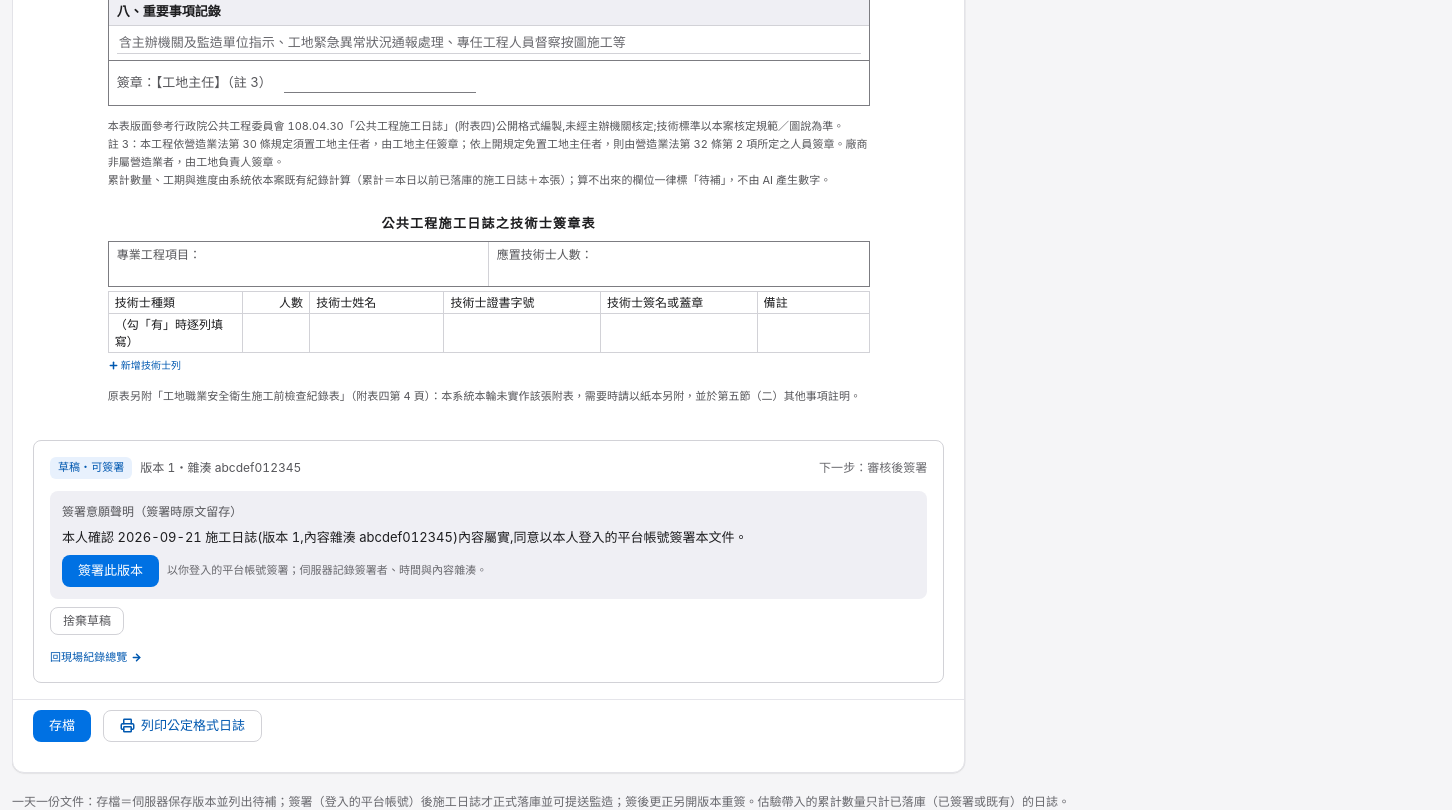
Scenario: 施工日誌文件頁 › 可簽署的草稿:一般登入直接簽署(無驗證碼步驟);成功顯示版本與雜湊、被拒(PD006)顯示伺服器訊息
(page scrolled)
Click the button "簽署此版本".
click(110, 571)  # box [62,555,159,587]
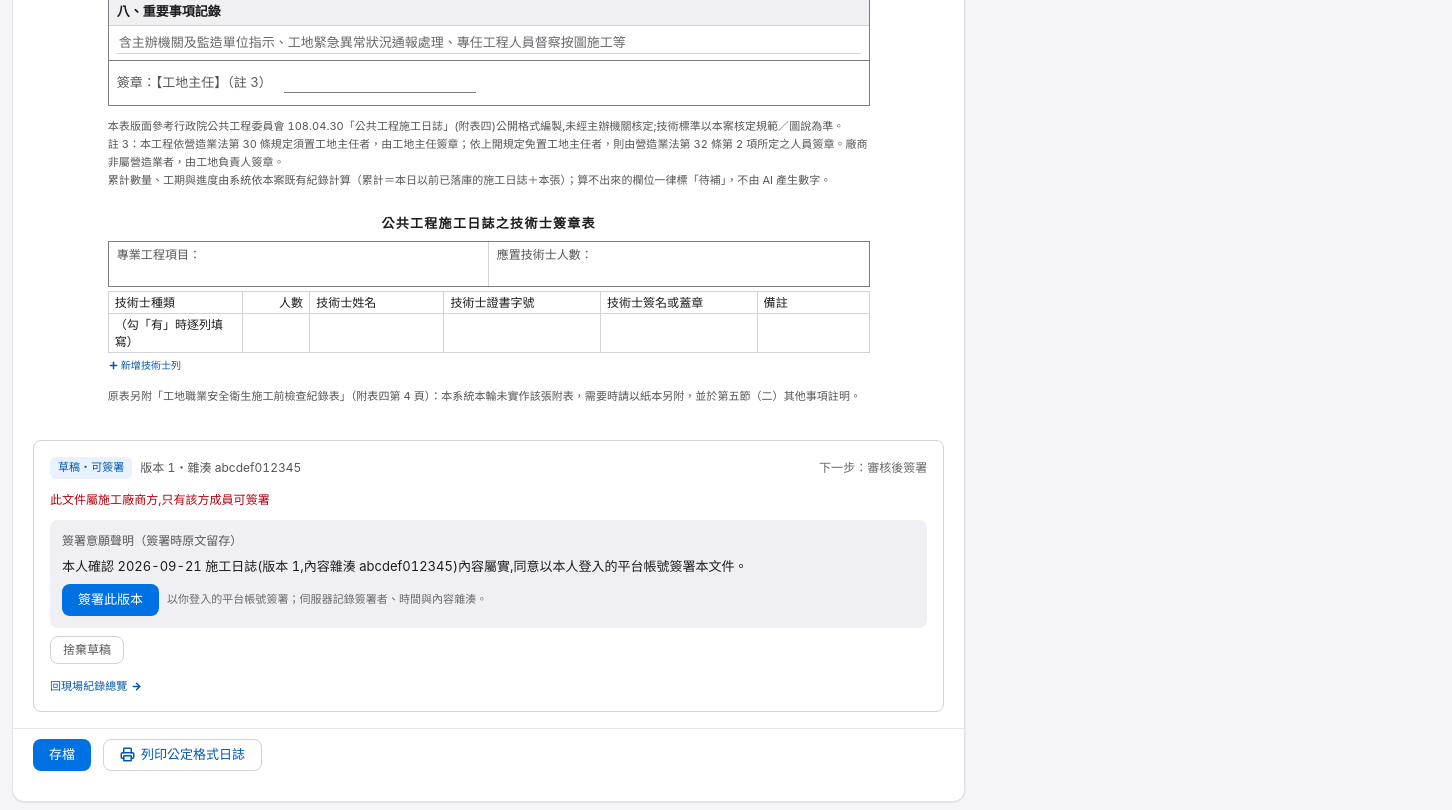
Now the message "此文件屬施工廠商方,只有該方成員可簽署" is shown, box [50,492,270,507]
Click the button "簽署此版本".
click(110, 600)  # box [62,584,159,616]
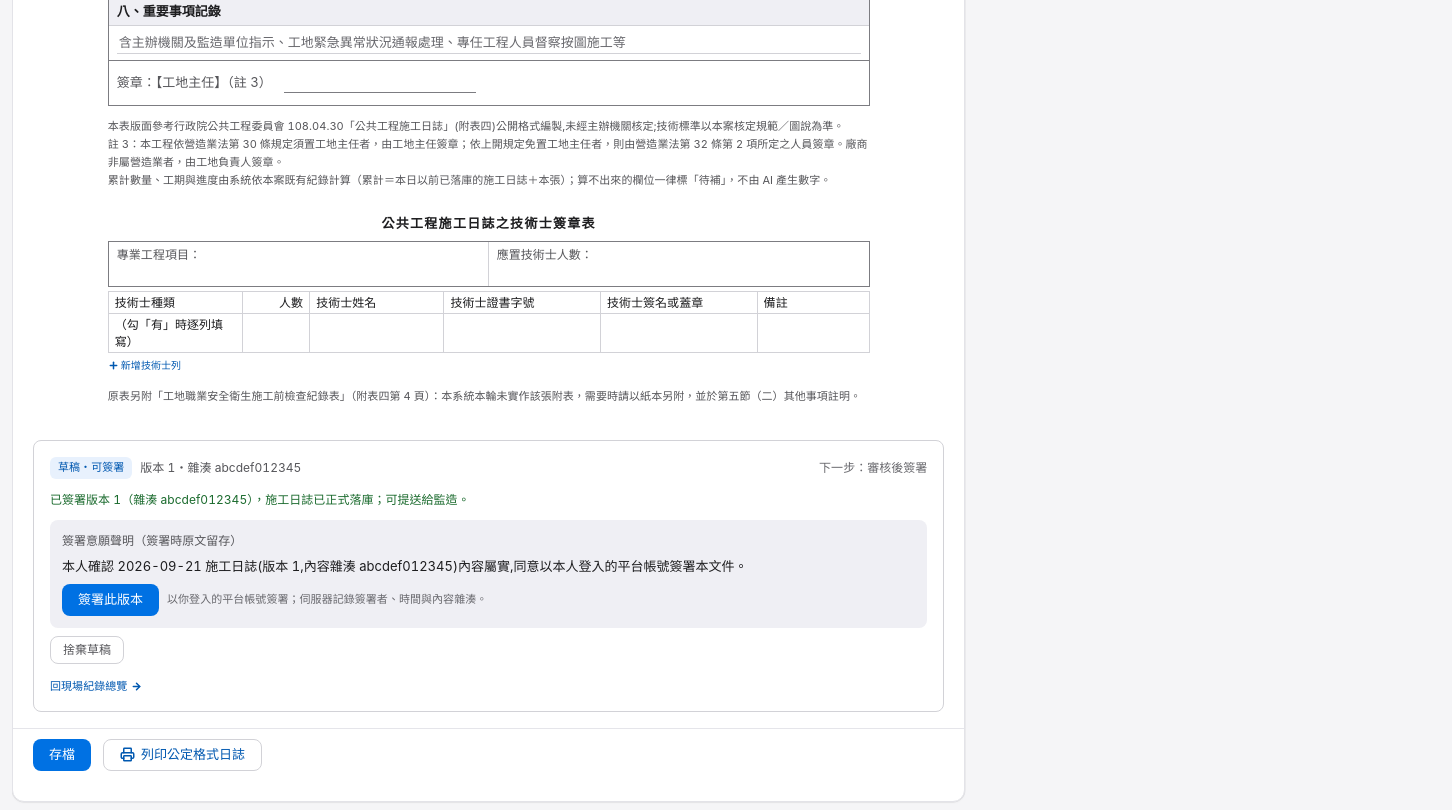
Now the text "已簽署版本 1（雜湊 abcdef012345）" is shown, box [50,492,470,507]
